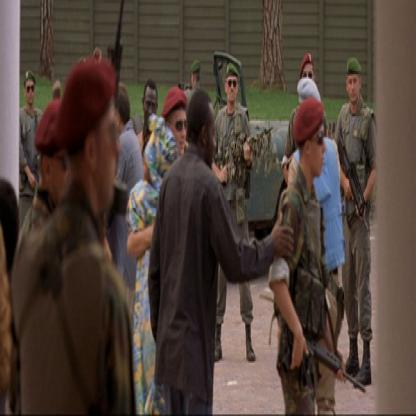Guns: (104, 0, 130, 253), (284, 332, 366, 397), (336, 127, 369, 236), (214, 123, 276, 174)
